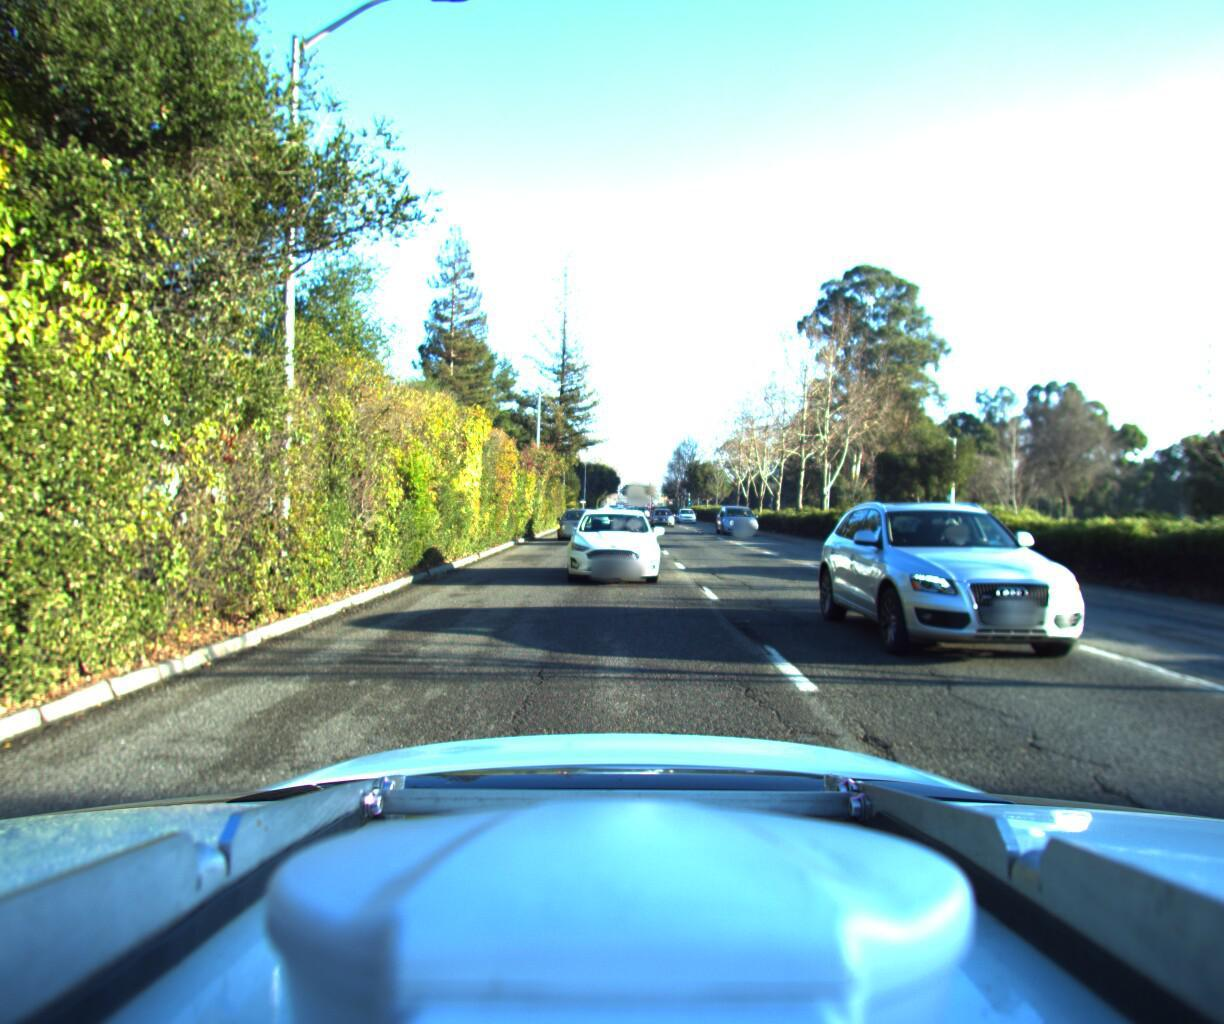car: (834, 487, 1224, 711), (560, 498, 662, 580), (551, 495, 599, 534), (717, 496, 764, 529), (648, 500, 673, 519), (676, 499, 698, 516)
